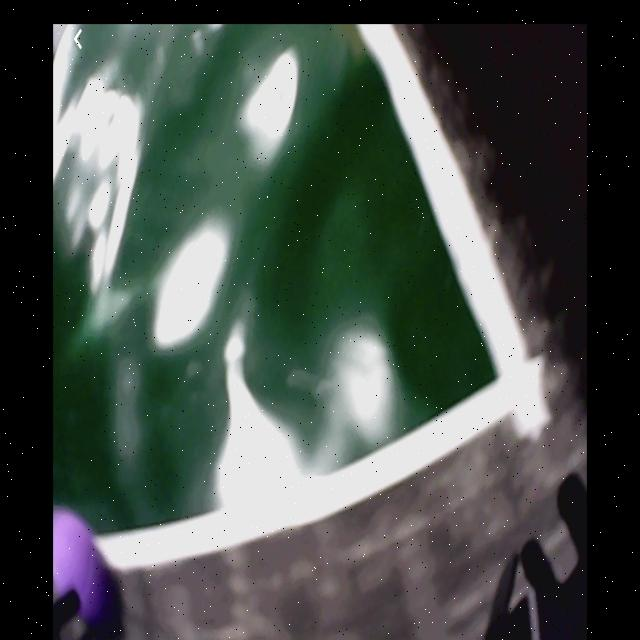ball: (54, 507, 106, 626)
